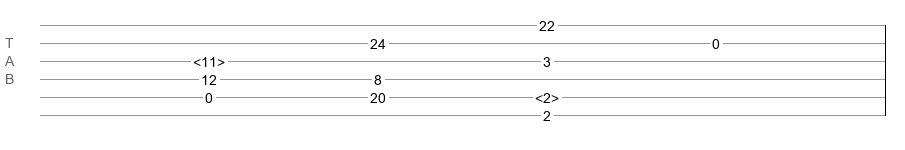0: (205, 90, 213, 100), (712, 36, 720, 46)
12: (201, 72, 217, 82)
2: (543, 108, 551, 118)
20: (370, 90, 386, 100)
22: (539, 18, 555, 28)
24: (370, 36, 386, 46)
3: (543, 54, 551, 64)
8: (374, 72, 382, 82)
harmonic: (193, 54, 225, 64), (535, 90, 559, 100)
